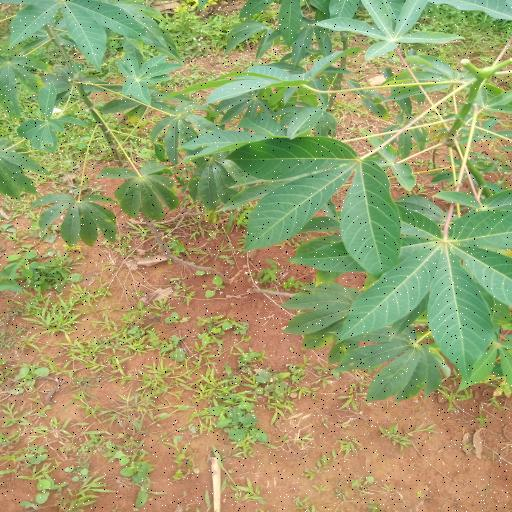Cassava_Healthy: (295, 206, 512, 377), (236, 130, 412, 278)
